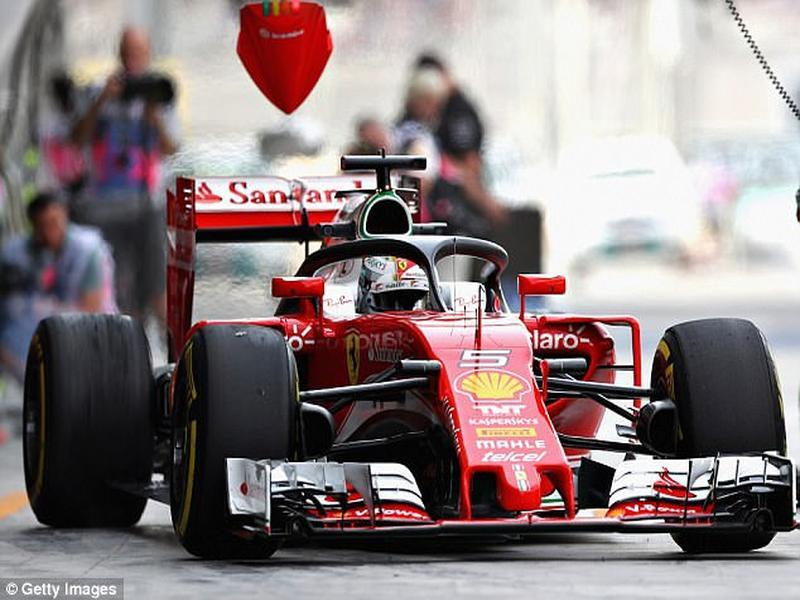f1: (25, 154, 799, 539)
